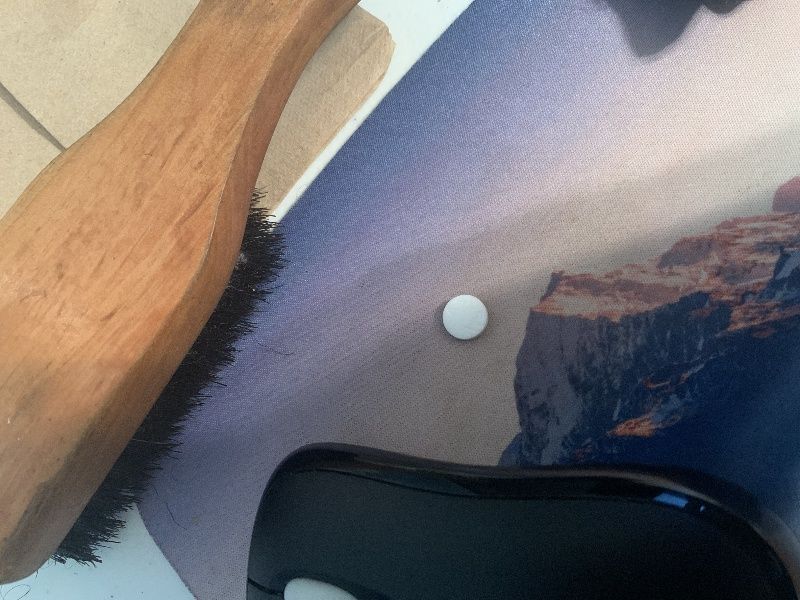Aspirin: (439, 292, 493, 342)
